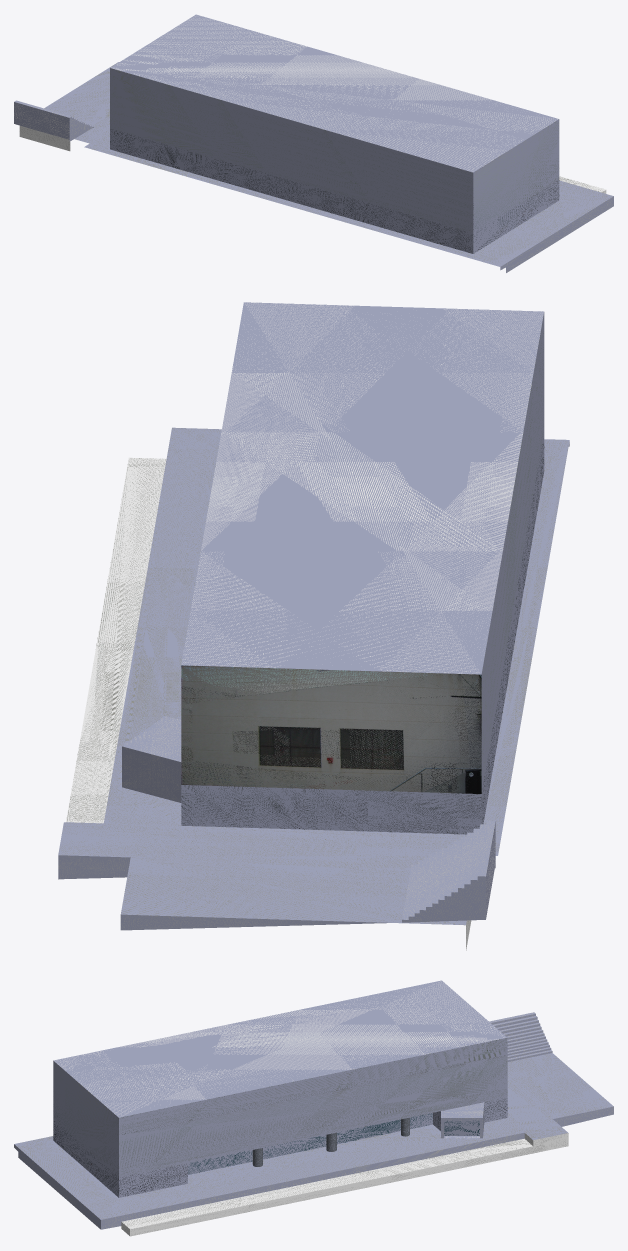
Rendered from Edificio Humanidades Obelisco.fbx.
3 renders of one model, top to bottom at view 1: azimuth 30°, elevation 25°; view 2: azimuth 150°, elevation 25°; view 3: azimuth 270°, elevation 25°, orthographic. The views are drawn at different scales.
Parts seen in each view (by area): view 1: Group1; view 2: Group1; view 3: Group1.
Boxes of the visible parts, x1,y1,x2,y2 form: Group1: (14, 14, 613, 272); Group1: (58, 302, 569, 950); Group1: (14, 980, 613, 1236).
Size of the model in its own units: 38.3 by 9.03 by 52.28.
